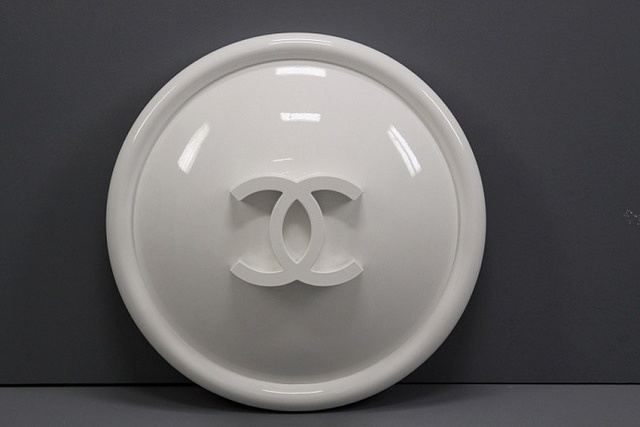Chanel: (224, 169, 364, 291)
